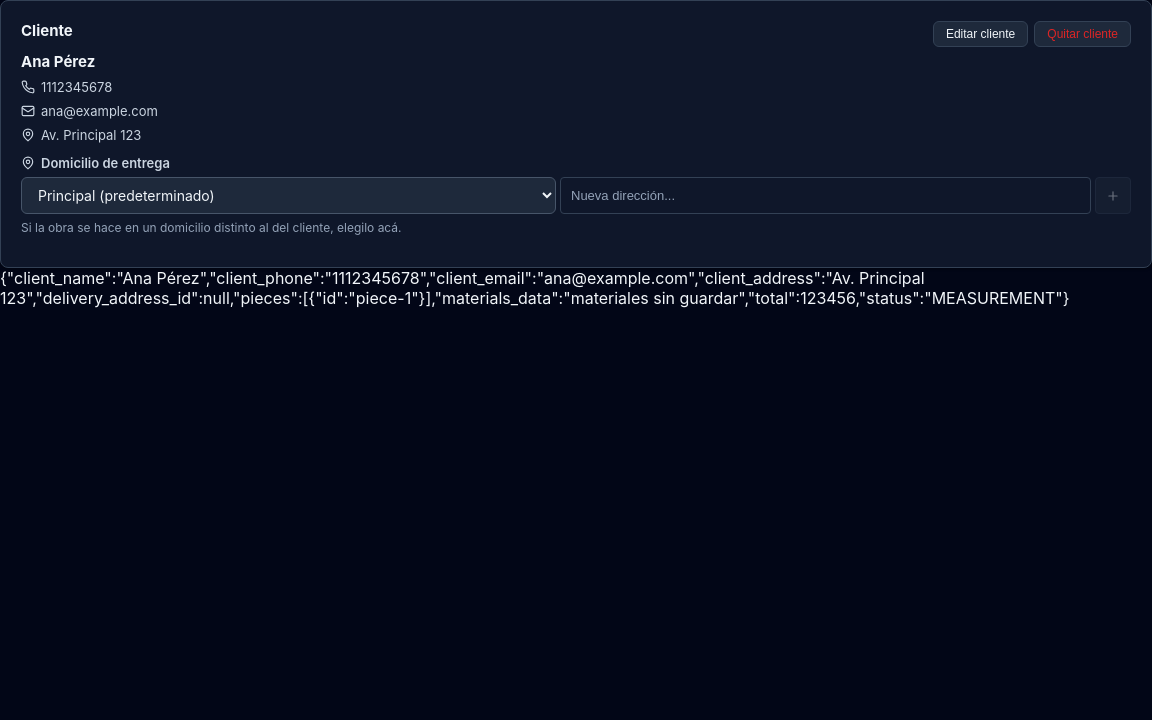
Test: EditClientModal › prevents duplicate submissions while the update is pending
Click the button "Editar cliente": (981, 34) [933,21,1028,47]
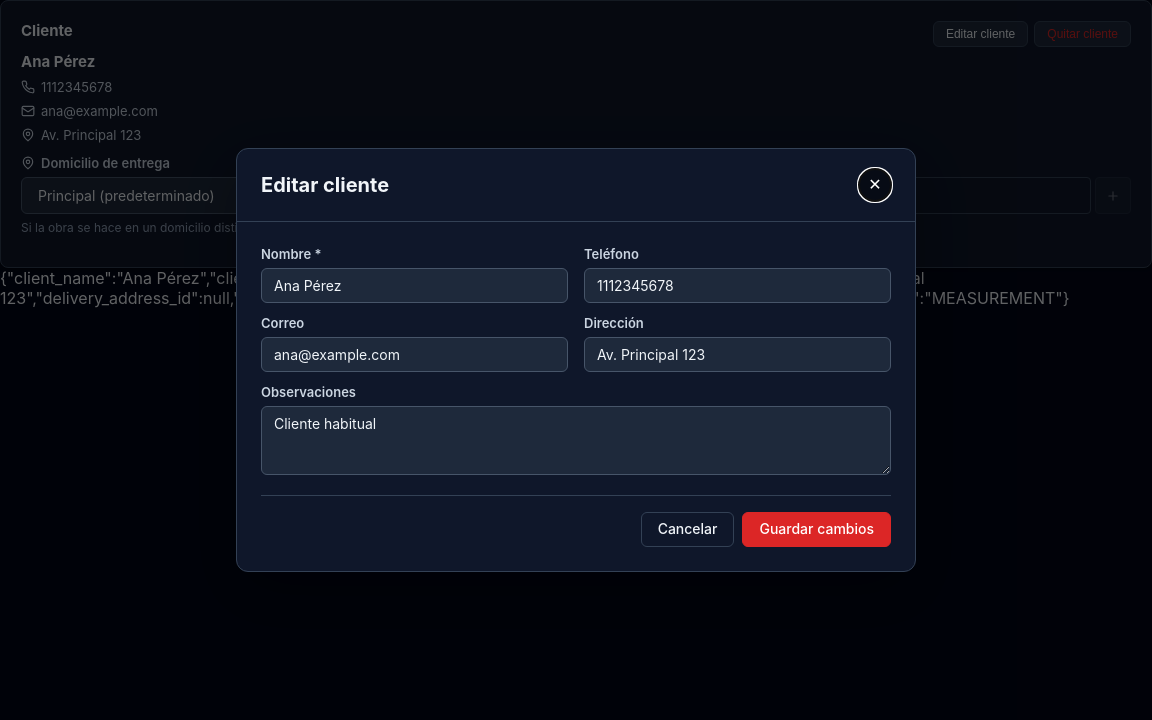
Click the button "Guardar cambios": (817, 530) [742,512,891,547]
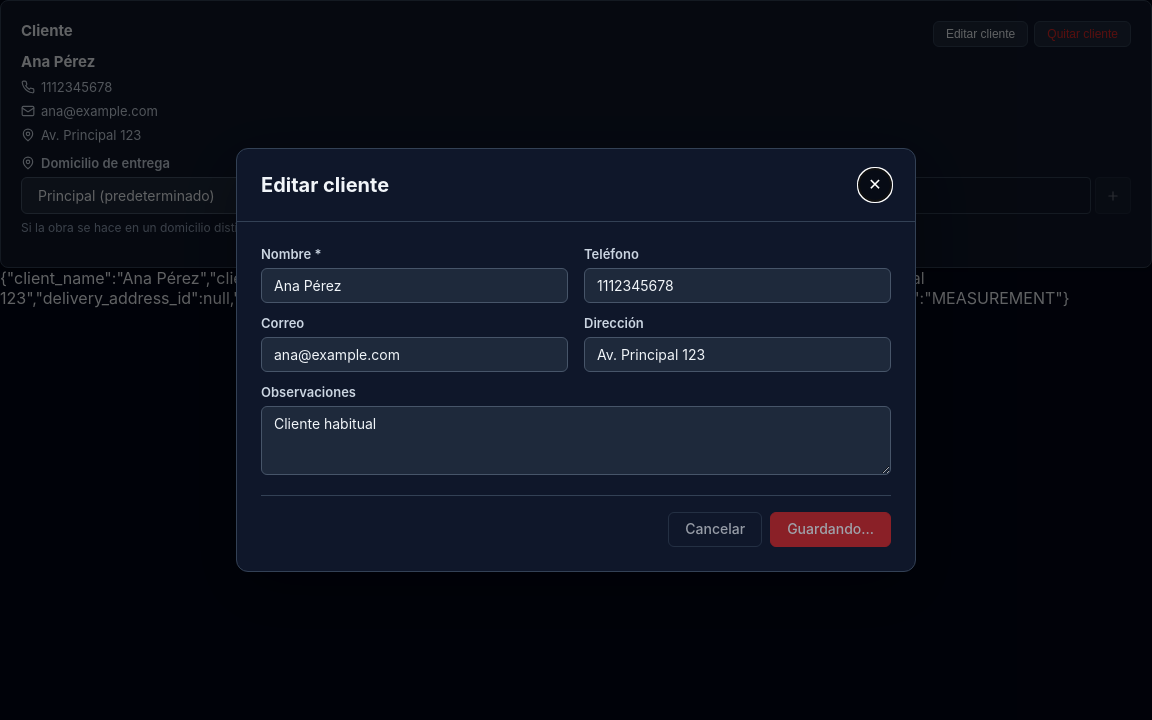
Click the button named "Guardar cambios": (831, 530) [770,512,891,547]
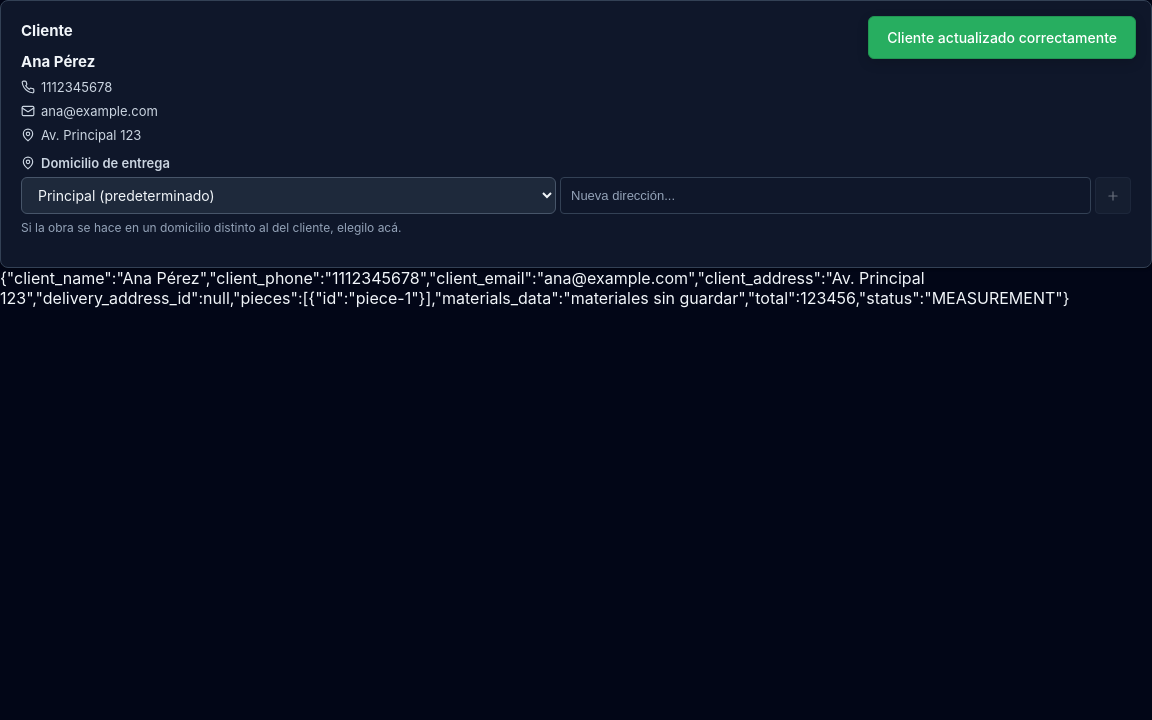
Result: the dialog is gone
